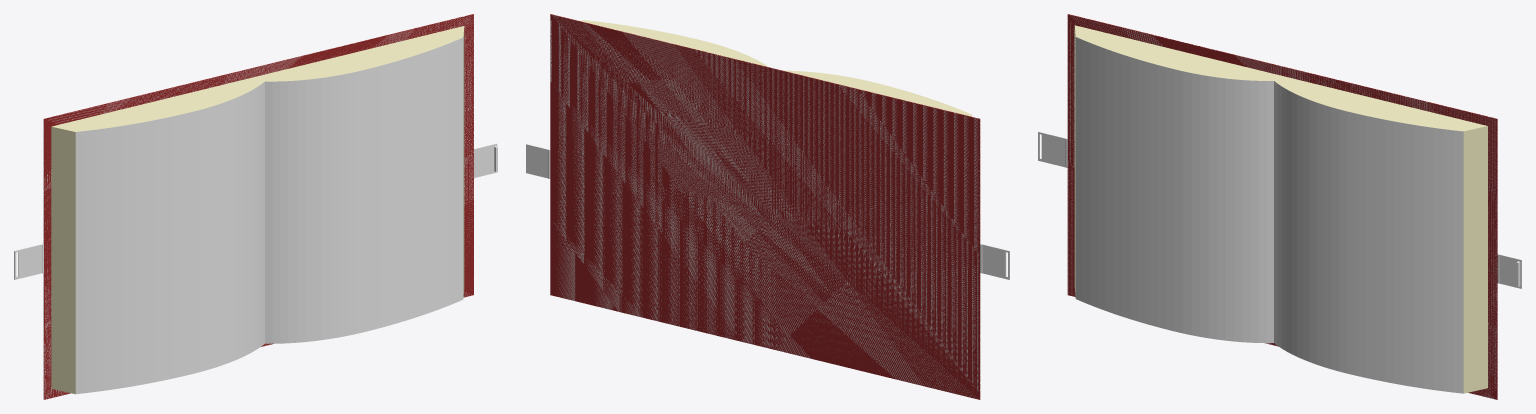
3 views of the same model, side by side, from view 1: azimuth 30°, elevation 25°; view 2: azimuth 150°, elevation 25°; view 3: azimuth 330°, elevation 25° (orthographic).
Visible parts, largest first — view 1: open journal; view 2: open journal; view 3: open journal.
Boxes of the visible parts, left/top/right/bottom form: open journal: left=14, top=14, right=497, bottom=399; open journal: left=526, top=14, right=1009, bottom=399; open journal: left=1038, top=14, right=1521, bottom=399.
Size of the model in its own units: 28.31 by 15.73 by 2.16.
